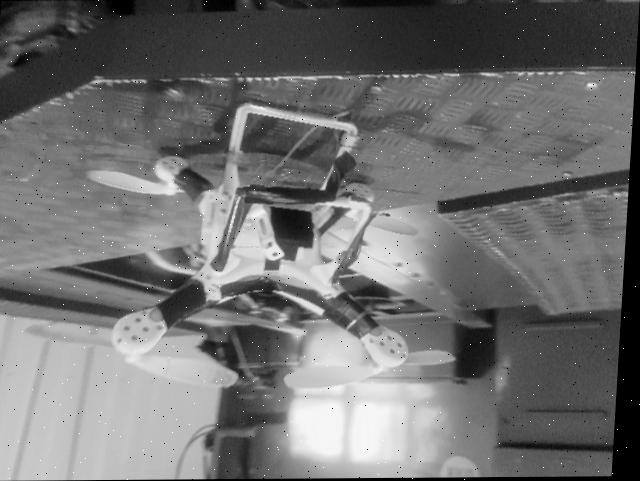drone: (54, 94, 485, 409)
